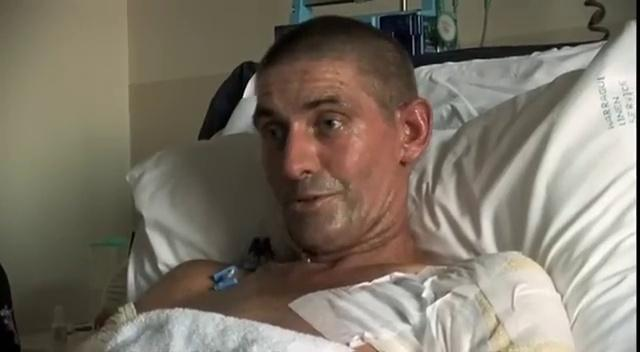patient: (90, 13, 580, 351)
